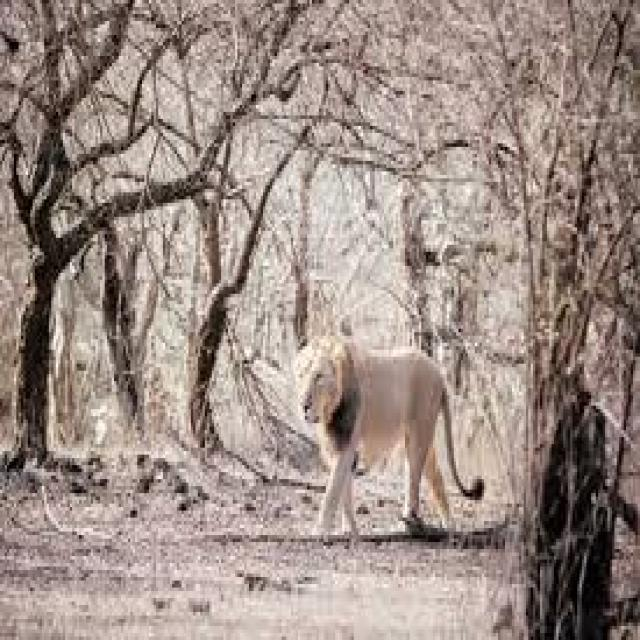Lion: (294, 340, 487, 548)
